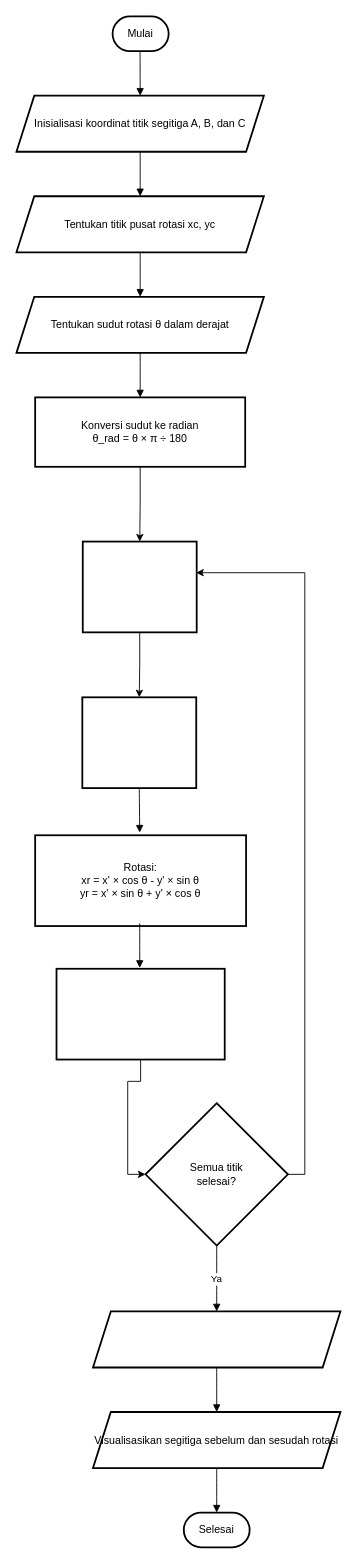
This 356x1563 diagram has some shape labels left out. Here are the shapes that lost their labels. From the top down, the centre of each, then its label:
At [139,586]: "Menghitung setiap titik".
At [139,742]: "Translasi: x' = x - xc y' = y - yc".
At [140,1013]: "Translasi kembali: x_akhir = xr + xc y_akhir = yr + yc".
At [216,1339]: "Simpan koordinat hasil rotasi".
